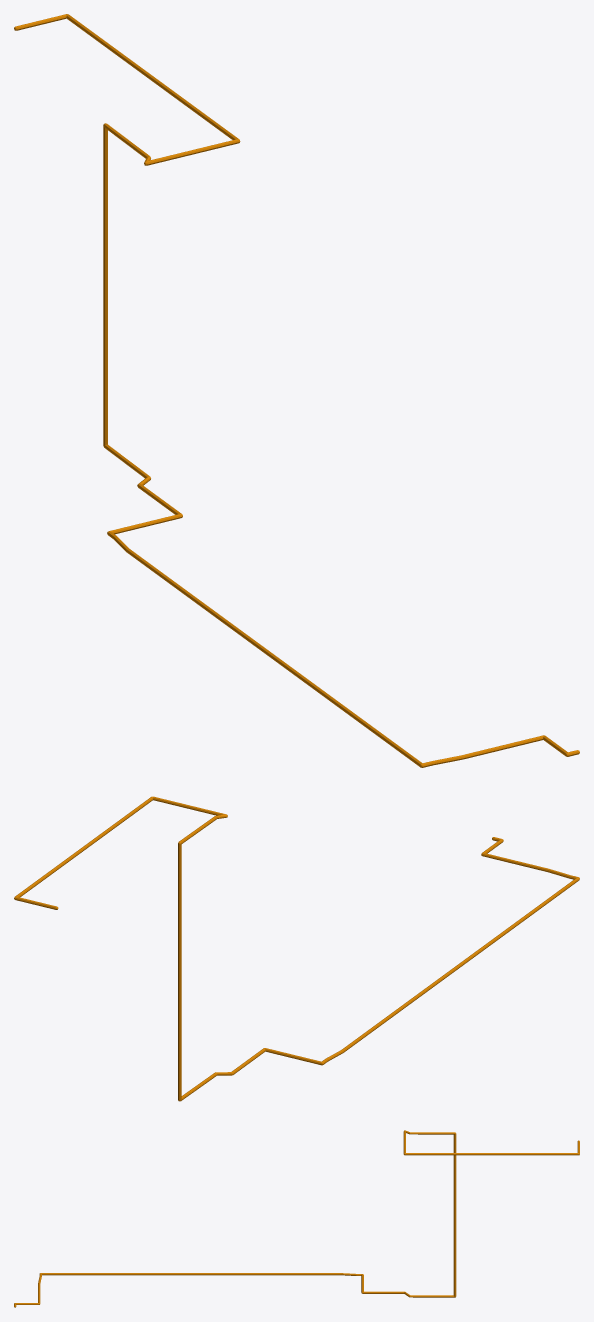
3 views of the same model, one above another, from view 1: azimuth 30°, elevation 25°; view 2: azimuth 150°, elevation 25°; view 3: azimuth 270°, elevation 25° (orthographic). The views are drawn at different scales.
Bounding box in the file's own units: 871 × 1520 × 4720.
